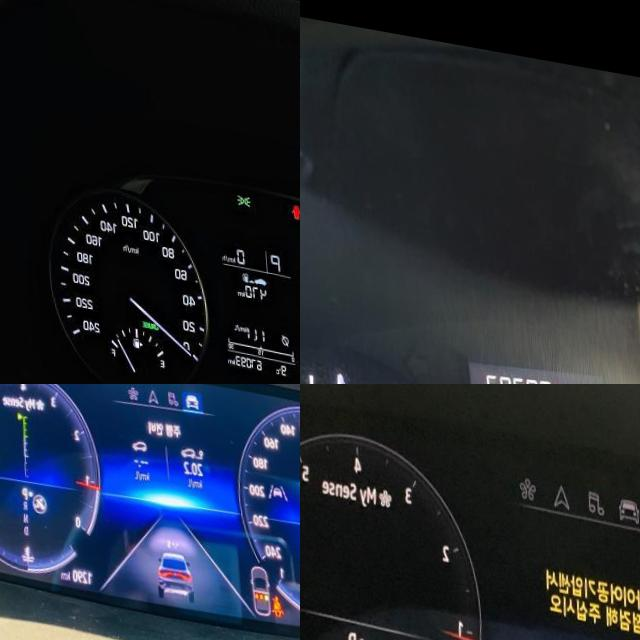Doors: (289, 190, 299, 207)
SideLamp: (234, 182, 249, 197)
